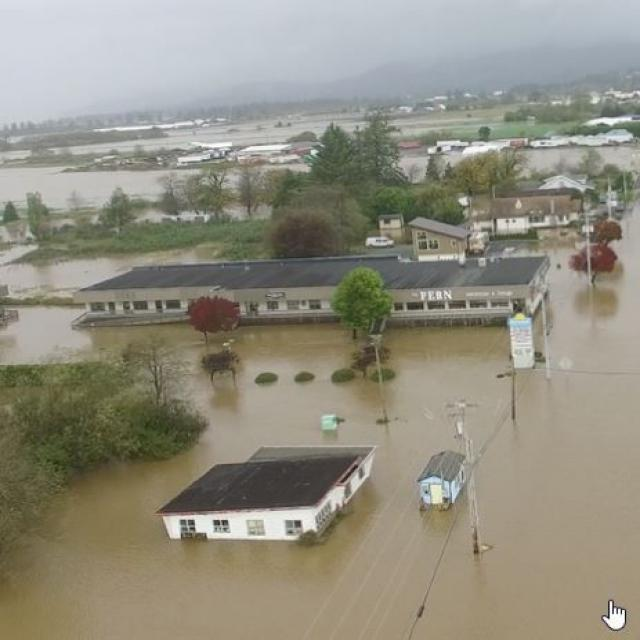flood: (0, 207, 640, 640), (0, 220, 219, 297), (72, 119, 331, 154), (0, 167, 170, 216)
house: (90, 262, 554, 332), (162, 443, 374, 552), (409, 216, 473, 258), (491, 196, 530, 236)
